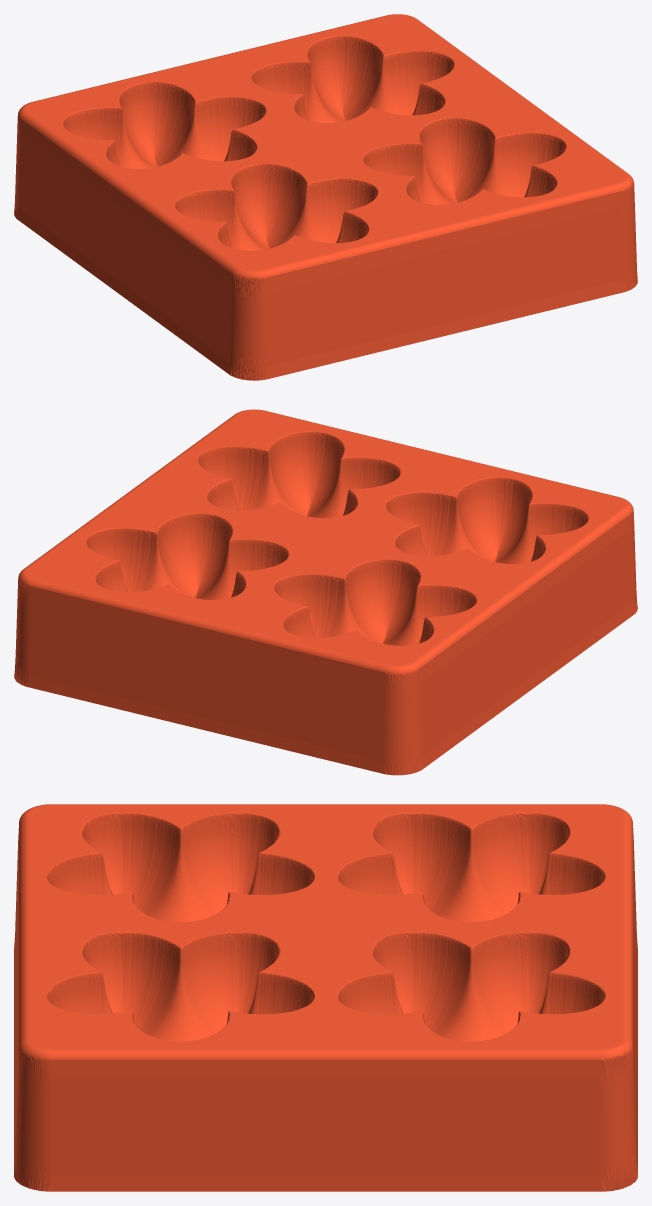
File: mold.glb
3 views of the same model, one above another, from view 1: azimuth 30°, elevation 25°; view 2: azimuth 150°, elevation 25°; view 3: azimuth 270°, elevation 25° (orthographic). The views are drawn at different scales.
Parts seen in each view (by area): view 1: geometry_0; view 2: geometry_0; view 3: geometry_0.
Part boxes in pixels (x1,y1,x2,y2): geometry_0: (14, 14, 637, 380); geometry_0: (14, 409, 637, 775); geometry_0: (14, 804, 637, 1191).
Size of the model in its own units: 0.1453 by 0.036 by 0.1493.
